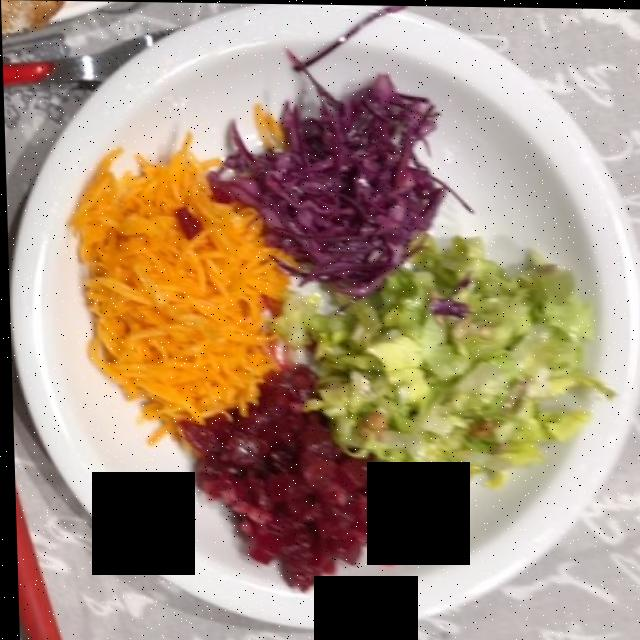beetroot-steamed-without-addition-of-salt: (203, 343, 433, 585)
carrot-raw: (76, 148, 273, 432)
red-cabbage: (225, 84, 434, 285)
salad-leaf-salad-green: (312, 237, 597, 498)
